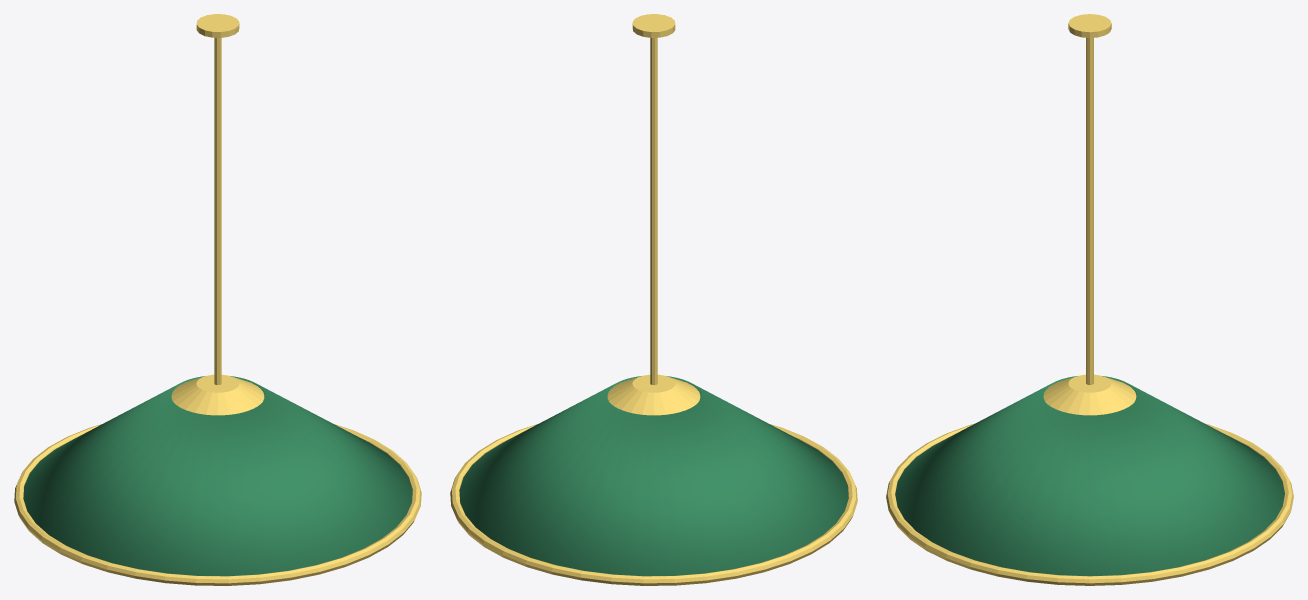
Rendered from rubgame_lamp.glb.
3 views of the same model, side by side, from view 1: azimuth 30°, elevation 25°; view 2: azimuth 150°, elevation 25°; view 3: azimuth 270°, elevation 25° (orthographic).
Visible parts, largest first — view 1: rubgame_lamp; view 2: rubgame_lamp; view 3: rubgame_lamp.
Boxes of the visible parts, bbox=[...] form: rubgame_lamp: bbox=[14, 14, 421, 585]; rubgame_lamp: bbox=[450, 14, 857, 585]; rubgame_lamp: bbox=[886, 14, 1293, 585].
Bounding box in the file's own units: 0.944 × 1.22 × 0.944.
